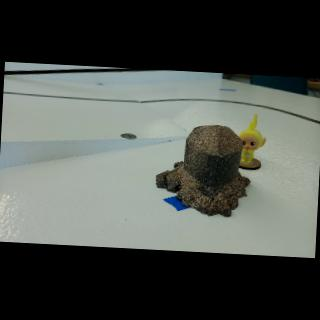teletubby: (239, 114, 266, 164)
